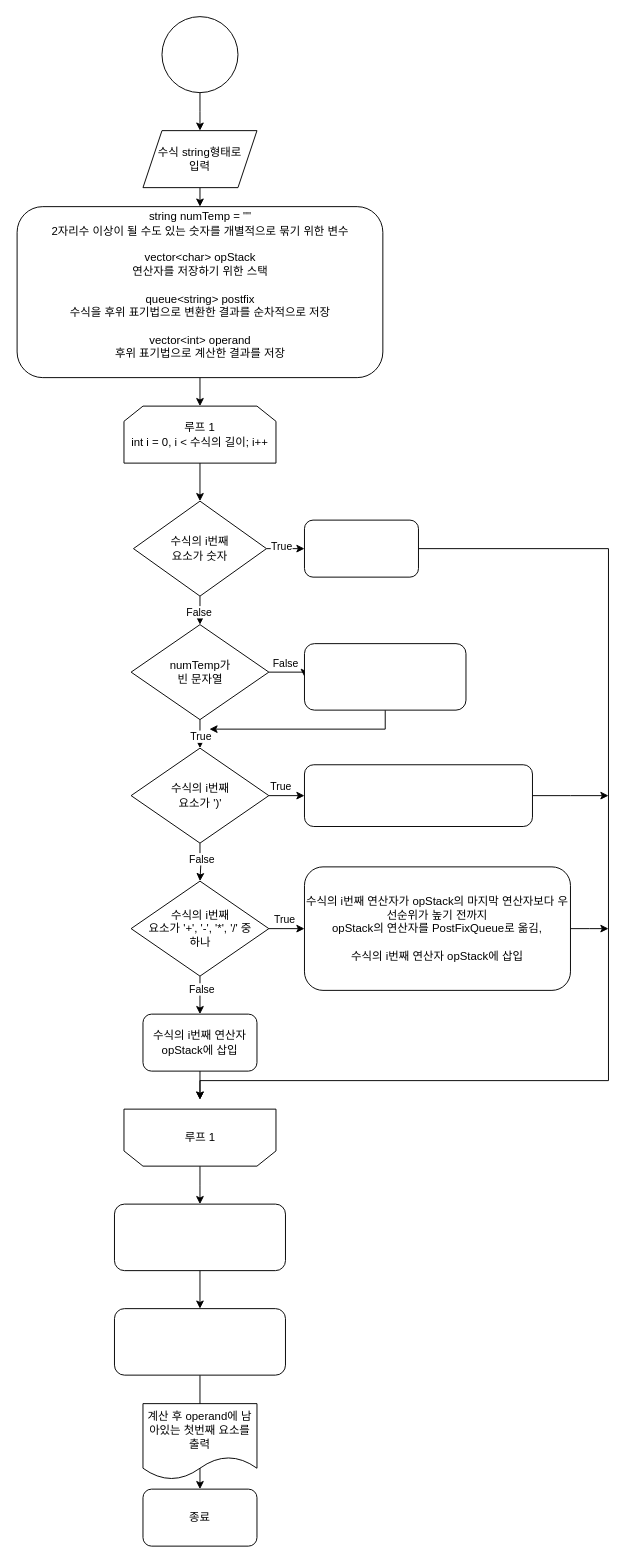
Image size: 633x1563. Some labels were removed from this diagram. Here are the shapes that lost their labels. From the top down, the centre of each, then its label:
At [199,54]: "시작".
At [361,548]: "numTemp에 숫자 기록".
At [385,676]: "postfix에 문자열의 형태로 숫자 enqueue, numtemp 빈 문자열로 초기화".
At [418,795]: "opStack에서 연산자 ( 가 나올때까지 계속 PostFixQueue로 옮김, ')' 삭제".
At [199,1237]: "numTemp에 숫자가 남아 있을 경우 postfix에 저장".
At [199,1341]: "PostFixQueue를 순회하면서 후위 연산식을 계산, operand 벡터에 저장".
